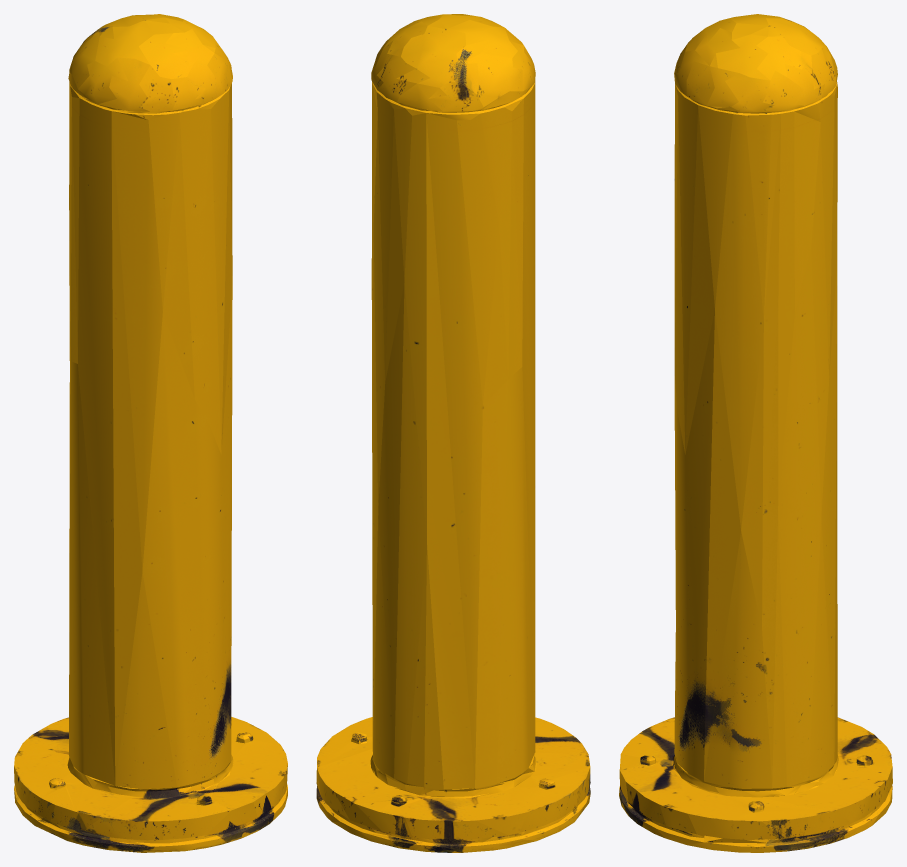
The model's file is bollard.glb.
3 views of the same model, side by side, from view 1: azimuth 30°, elevation 25°; view 2: azimuth 150°, elevation 25°; view 3: azimuth 270°, elevation 25° (orthographic).
Bounding box in the file's own units: 0.6123 × 1.9 × 0.6123.
1 material, 1 textured.
